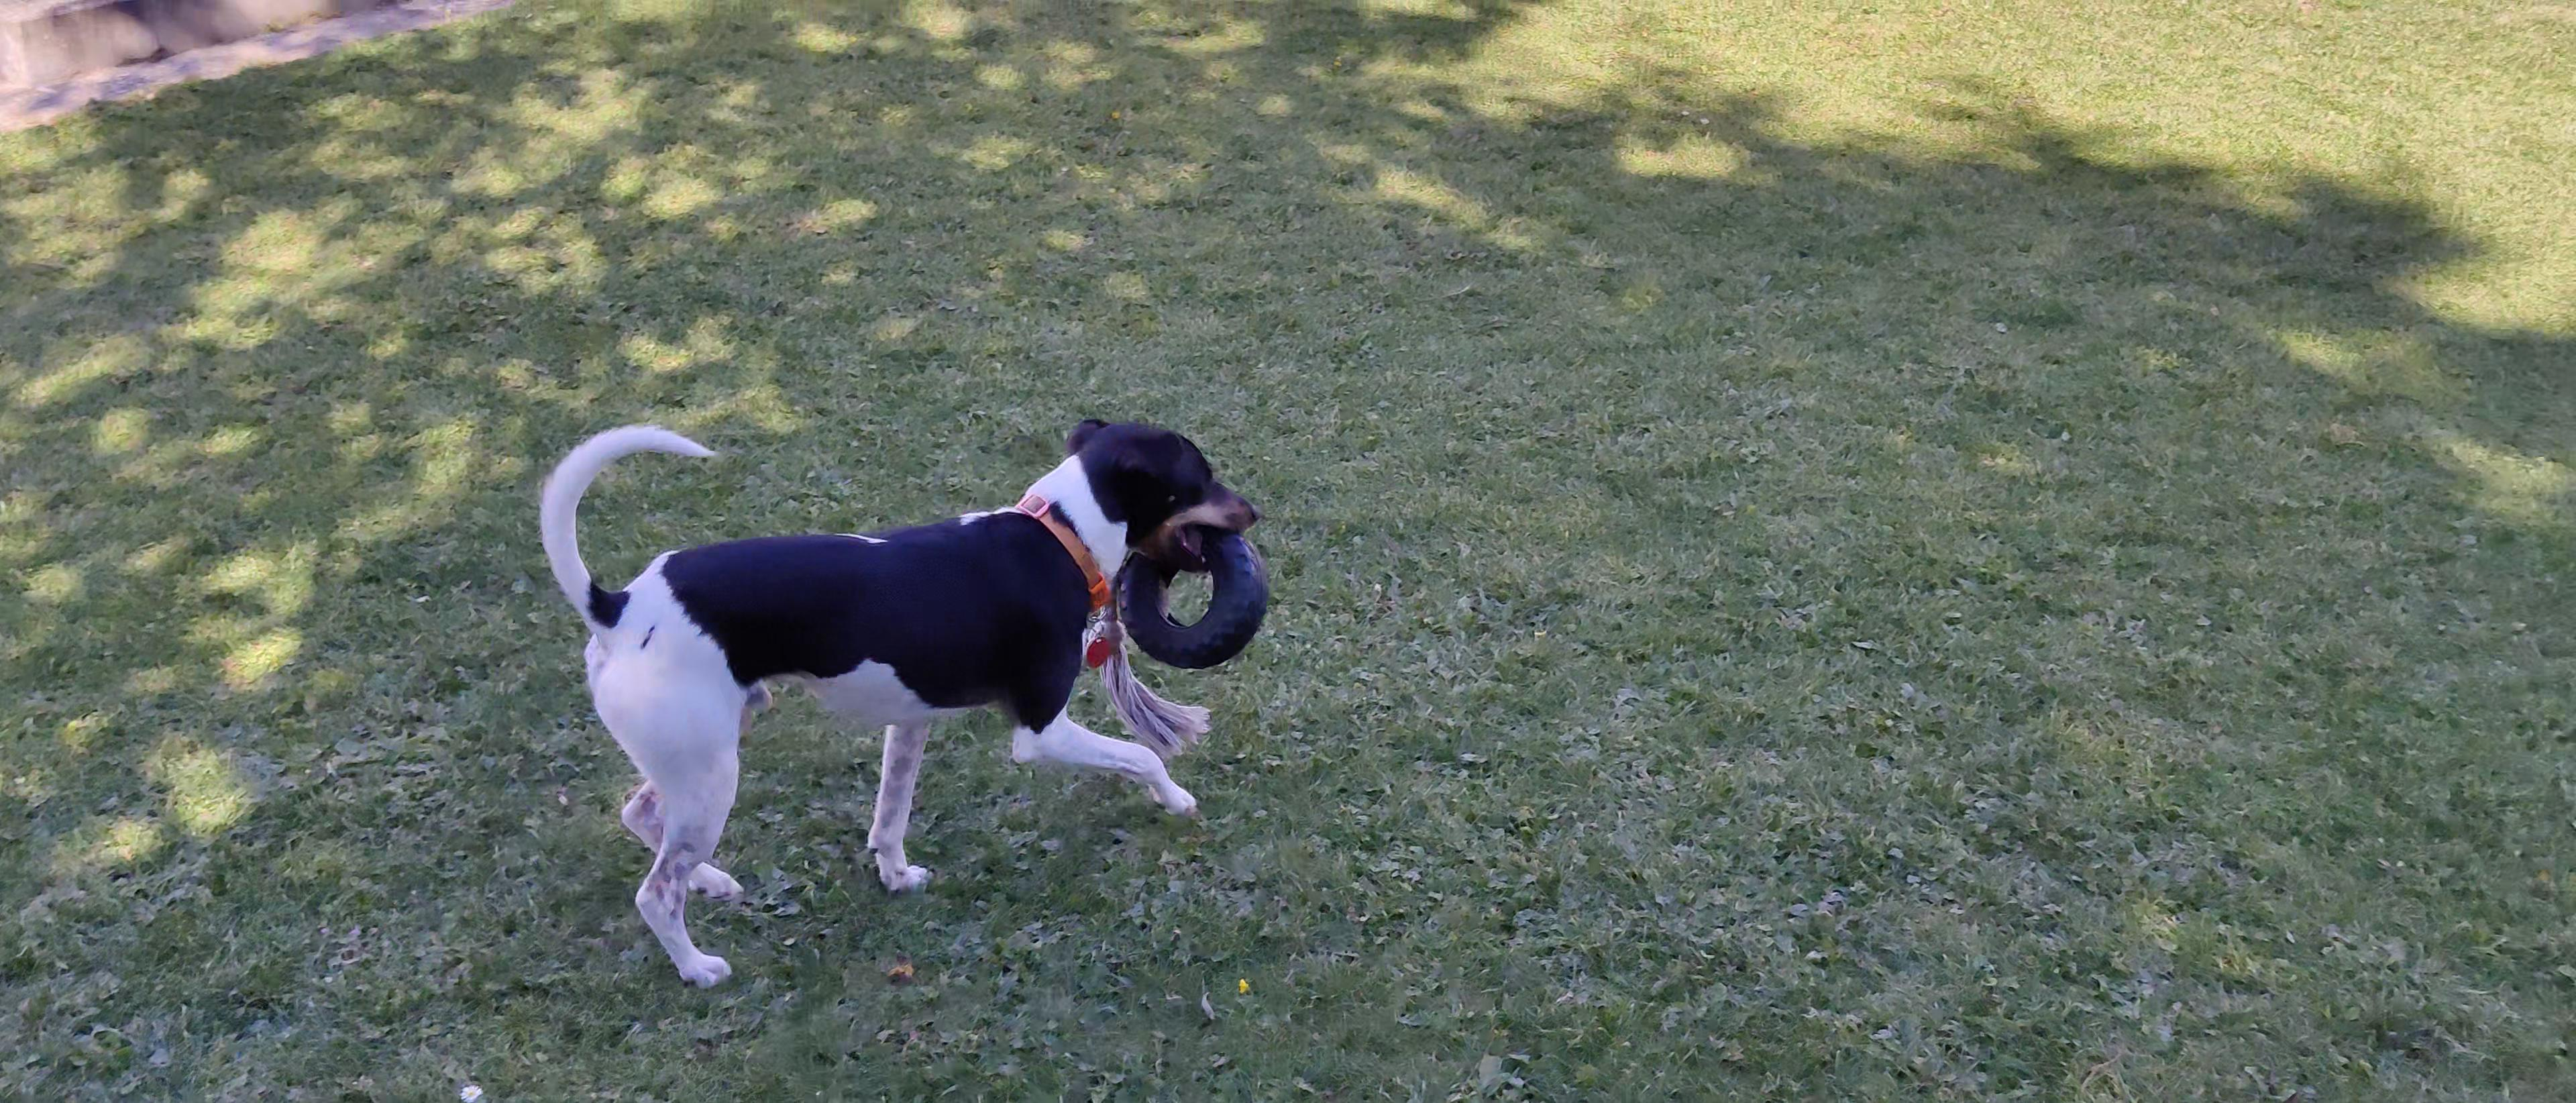Dog: (519, 413, 1263, 995)
